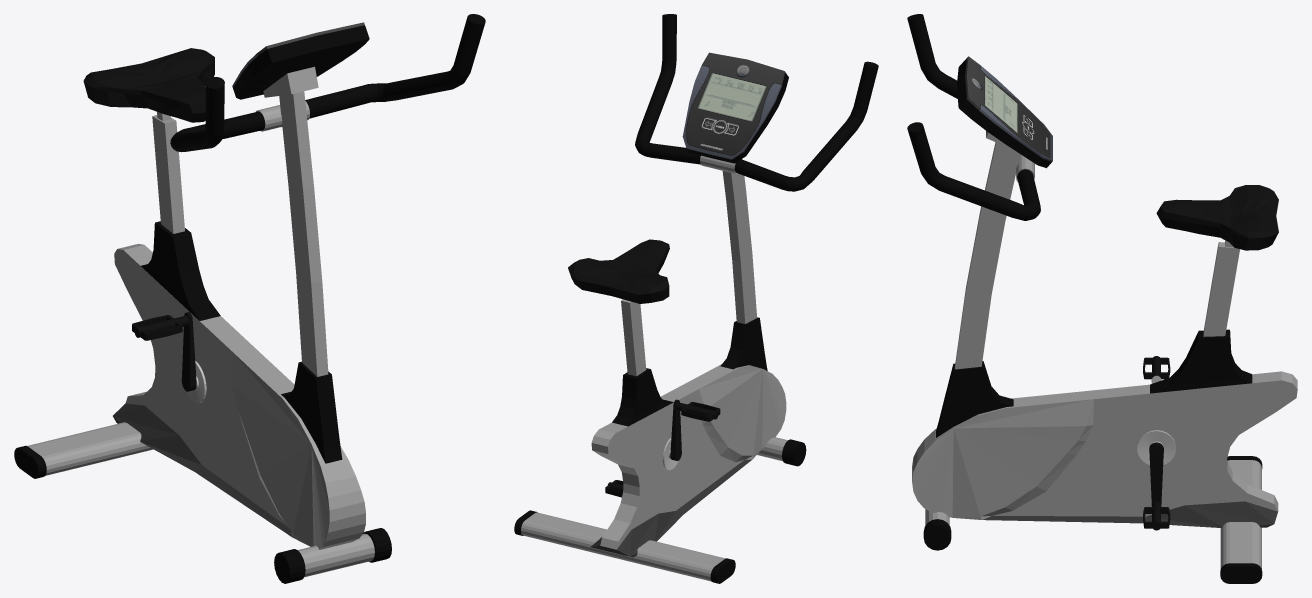
The model's file is indoor-bike.obj.
3 views of the same model, side by side, from view 1: azimuth 30°, elevation 25°; view 2: azimuth 150°, elevation 25°; view 3: azimuth 270°, elevation 25° (orthographic). The views are drawn at different scales.
Parts seen in each view (by area): view 1: Cylinder.002, Plane, Cylinder.006, Cylinder.003, Plane.002, Plane.001, Cylinder, Cylinder.001, Cylinder.004; view 2: Cylinder.002, Cylinder.006, Plane.003, Cylinder.003, Plane, Cylinder, Plane.002, Plane.001, Cylinder.004, Cylinder.001; view 3: Cylinder.002, Cylinder.006, Plane, Plane.001, Plane.002, Cylinder.003, Plane.003, Cylinder, Cylinder.005, Cylinder.001, Cylinder.004.
Part boxes in pixels (x1,y1,x2,y2): Cylinder.002: [113, 244, 365, 549]; Plane: [233, 25, 369, 463]; Cylinder.006: [114, 249, 288, 527]; Cylinder.003: [170, 14, 485, 152]; Plane.002: [83, 48, 214, 122]; Plane.001: [141, 112, 220, 320]; Cylinder: [14, 422, 153, 478]; Cylinder.001: [274, 528, 391, 583]; Cylinder.004: [132, 312, 206, 403]; Cylinder.002: [590, 364, 786, 557]; Cylinder.006: [608, 389, 743, 548]; Plane.003: [682, 52, 785, 159]; Cylinder.003: [635, 14, 878, 191]; Plane: [687, 72, 788, 370]; Cylinder: [514, 510, 735, 583]; Plane.002: [568, 239, 669, 303]; Plane.001: [612, 299, 673, 426]; Cylinder.004: [662, 399, 720, 470]; Cylinder.001: [757, 437, 806, 466]; Cylinder.002: [912, 371, 1297, 527]; Cylinder.006: [992, 380, 1297, 516]; Plane: [936, 58, 1051, 437]; Plane.001: [1150, 240, 1252, 393]; Plane.002: [1156, 185, 1278, 250]; Cylinder.003: [907, 14, 1040, 220]; Plane.003: [965, 56, 1052, 161]; Cylinder: [1220, 456, 1262, 583]; Cylinder.005: [1137, 430, 1175, 530]; Cylinder.001: [923, 509, 951, 550]; Cylinder.004: [1143, 356, 1170, 383].
Size of the model in its own units: 71.85 by 131 by 101.
Materials: 7 (1 with a texture image).
